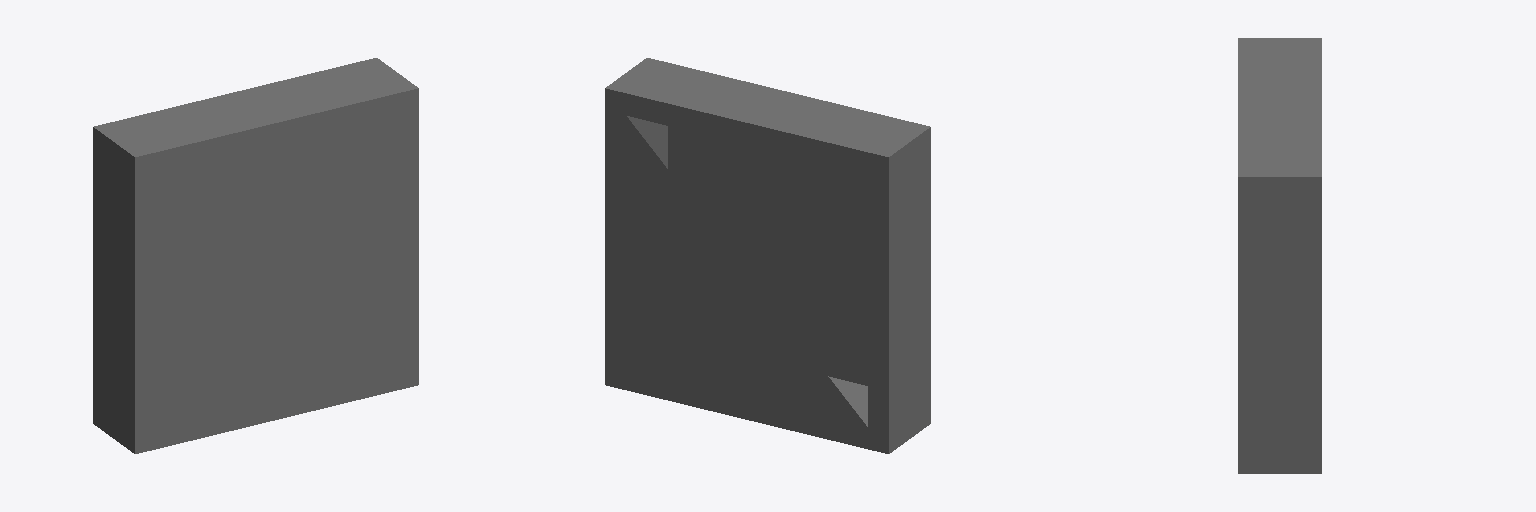
The model's file is Item_boundry.obj.
The picture shows the model from 3 angles: view 1: azimuth 30°, elevation 25°; view 2: azimuth 150°, elevation 25°; view 3: azimuth 270°, elevation 25°; orthographic projection.
Parts seen in each view (by area): view 1: polySurface8 polySurface6; view 2: polySurface8 polySurface6; view 3: polySurface8 polySurface6.
Boxes of the visible parts, x1,y1,x2,y2 form: polySurface8 polySurface6: [93, 58, 418, 453]; polySurface8 polySurface6: [605, 58, 930, 453]; polySurface8 polySurface6: [1238, 38, 1321, 473].
Size of the model in its own units: 2.56 by 2.56 by 0.6569.